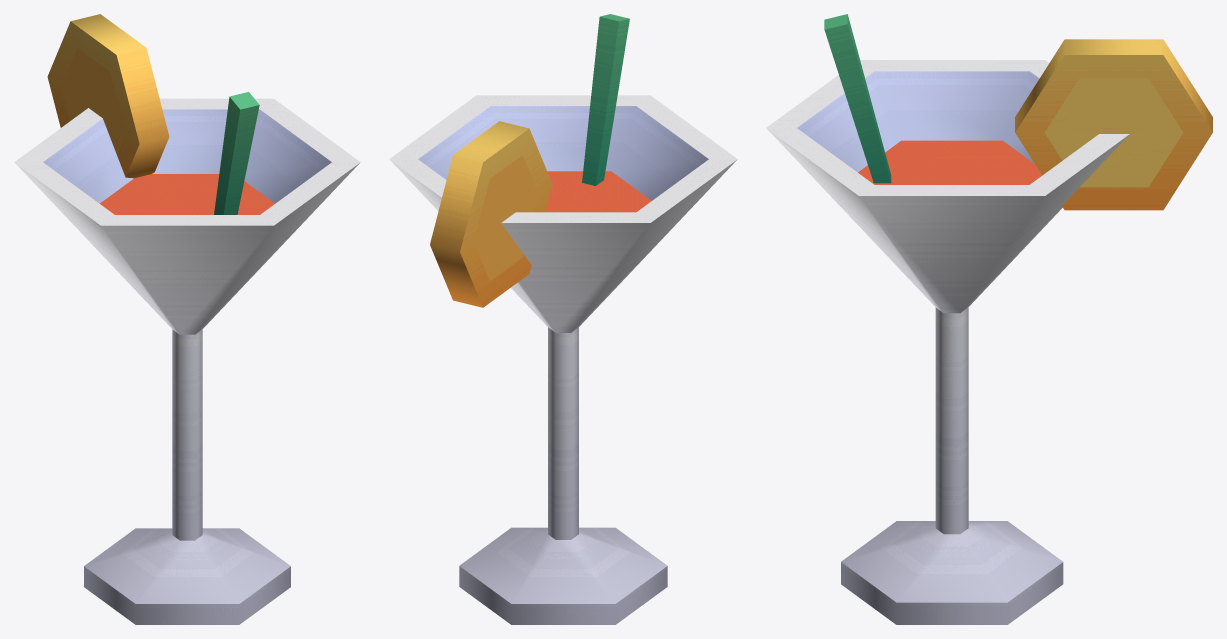
File: cocktail.glb
The picture shows the model from 3 angles, left to right: view 1: azimuth 30°, elevation 25°; view 2: azimuth 150°, elevation 25°; view 3: azimuth 270°, elevation 25°; orthographic projection. The views are drawn at different scales.
Parts seen in each view (by area): view 1: cocktail, lemon, straw; view 2: cocktail, lemon, straw; view 3: cocktail, lemon, straw.
Boxes of the visible parts, x1,y1,x2,y2 form: cocktail: [14, 98, 360, 624]; lemon: [47, 14, 169, 178]; straw: [214, 92, 259, 214]; cocktail: [389, 95, 737, 624]; lemon: [430, 121, 552, 307]; straw: [582, 14, 629, 185]; cocktail: [766, 60, 1129, 624]; lemon: [1015, 39, 1212, 210]; straw: [824, 14, 891, 183].
Bounding box in the file's own units: 0.2607 × 0.5059 × 0.3615.
Materials: 1 (1 with a texture image).
